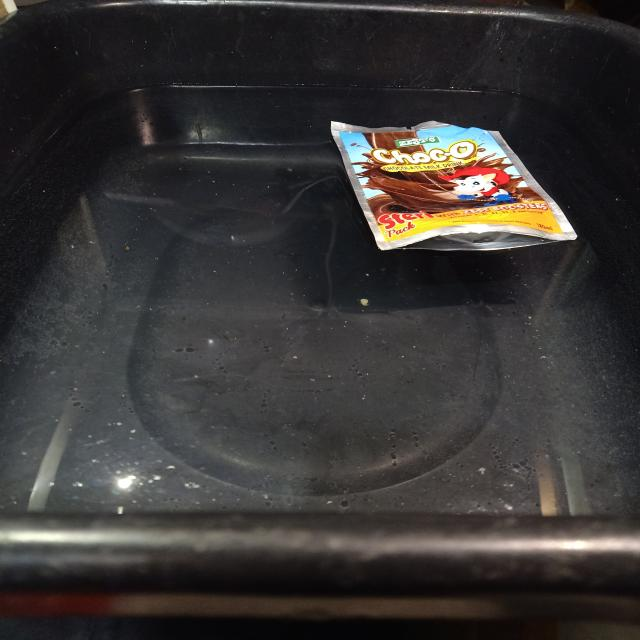Plastic Pouch: (331, 121, 577, 250)
